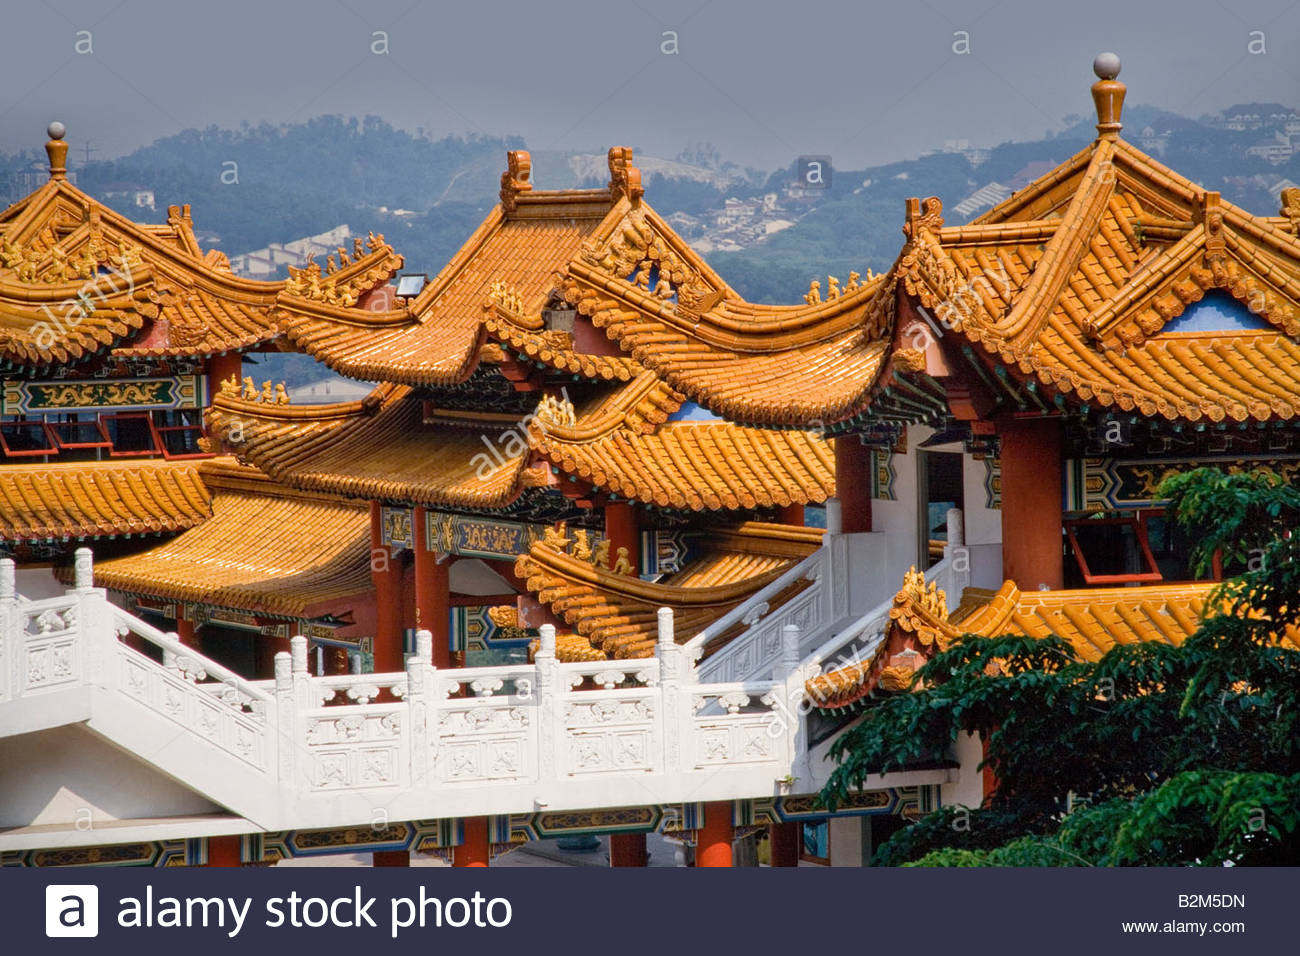Buddhist Temple: (5, 118, 1261, 646)
